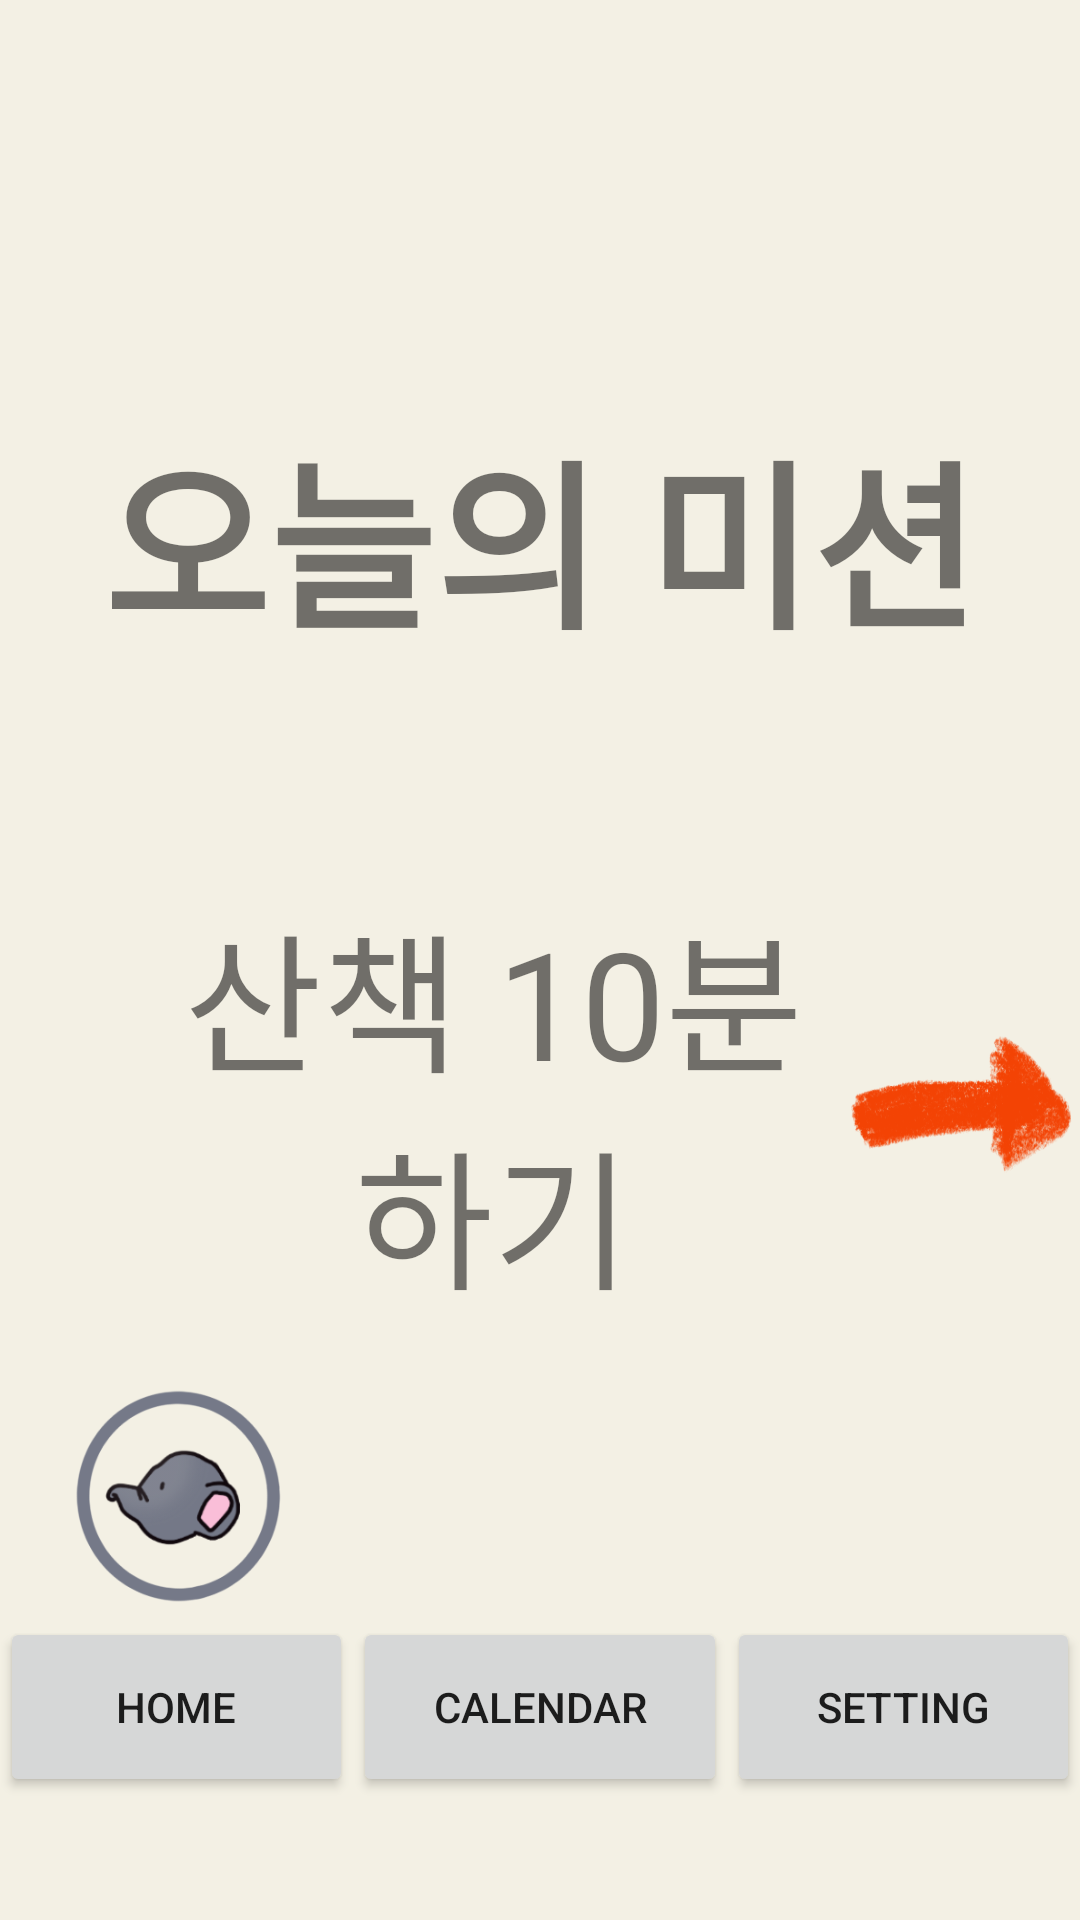

Screen size 1080x1920. Icon name, then its box in pixels as (x1, y1, x2, y2):
arrow: (851, 1037, 1071, 1171)
